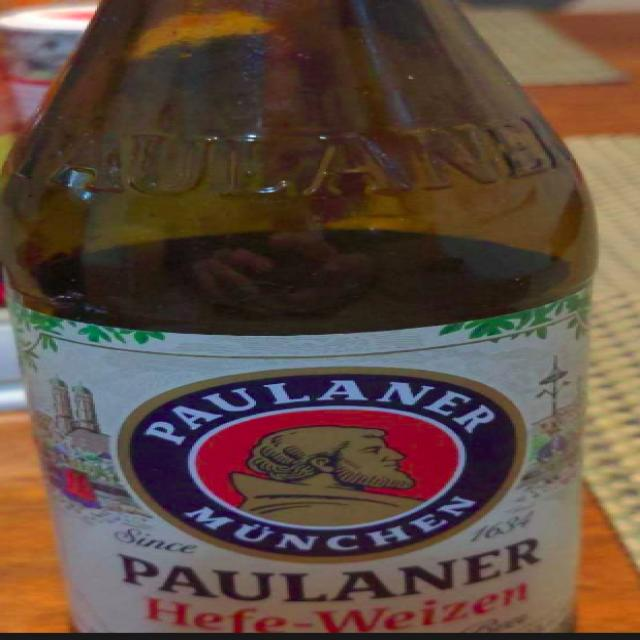Paulaner Weissbier Non-Alcoholic: (0, 0, 640, 640)
